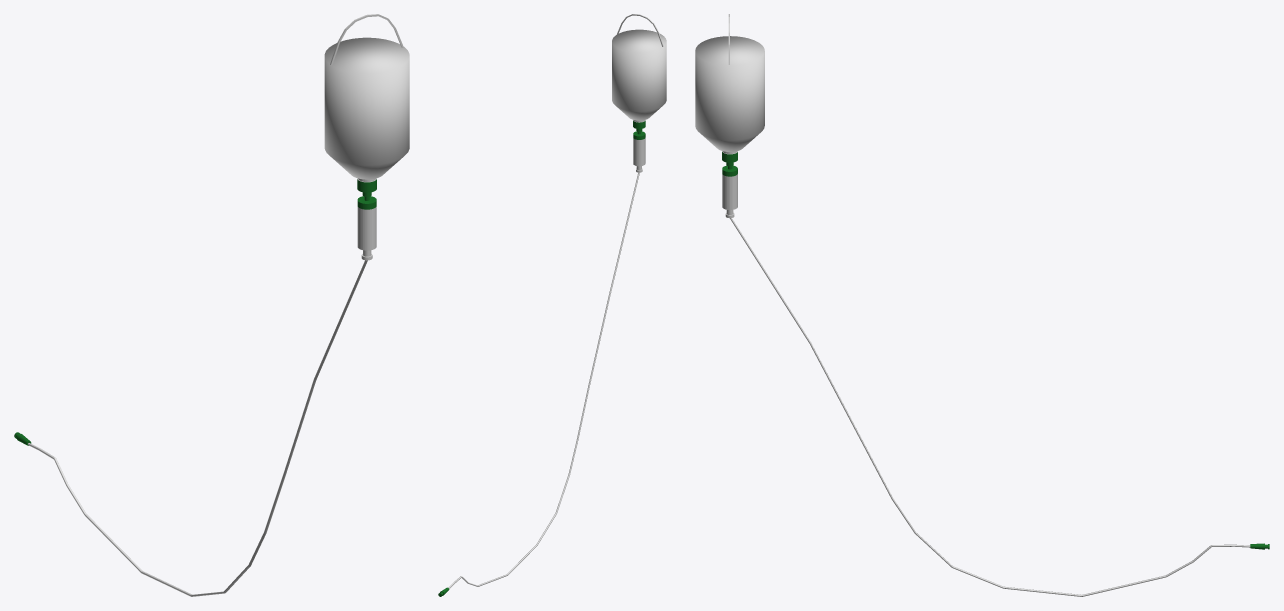
File: SolSalina.fbx
3 views of the same model, side by side, from view 1: azimuth 30°, elevation 25°; view 2: azimuth 150°, elevation 25°; view 3: azimuth 270°, elevation 25° (orthographic). The views are drawn at different scales.
Parts seen in each view (by area): view 1: Recipiente.001, Vert.002, Recipiente; view 2: Recipiente.001, Vert.002, Recipiente; view 3: Recipiente.001, Vert.002, Recipiente.
Part boxes in pixels (bbox=[...]): Recipiente.001: bbox=[324, 37, 409, 179]; Vert.002: bbox=[28, 260, 367, 596]; Recipiente: bbox=[330, 14, 403, 260]; Recipiente.001: bbox=[612, 29, 666, 120]; Vert.002: bbox=[448, 172, 639, 588]; Recipiente: bbox=[616, 14, 663, 172]; Recipiente.001: bbox=[695, 36, 764, 151]; Vert.002: bbox=[730, 218, 1250, 596]; Recipiente: bbox=[722, 14, 737, 218].
Bounding box in the file's own units: 82.34 × 757 × 676.
